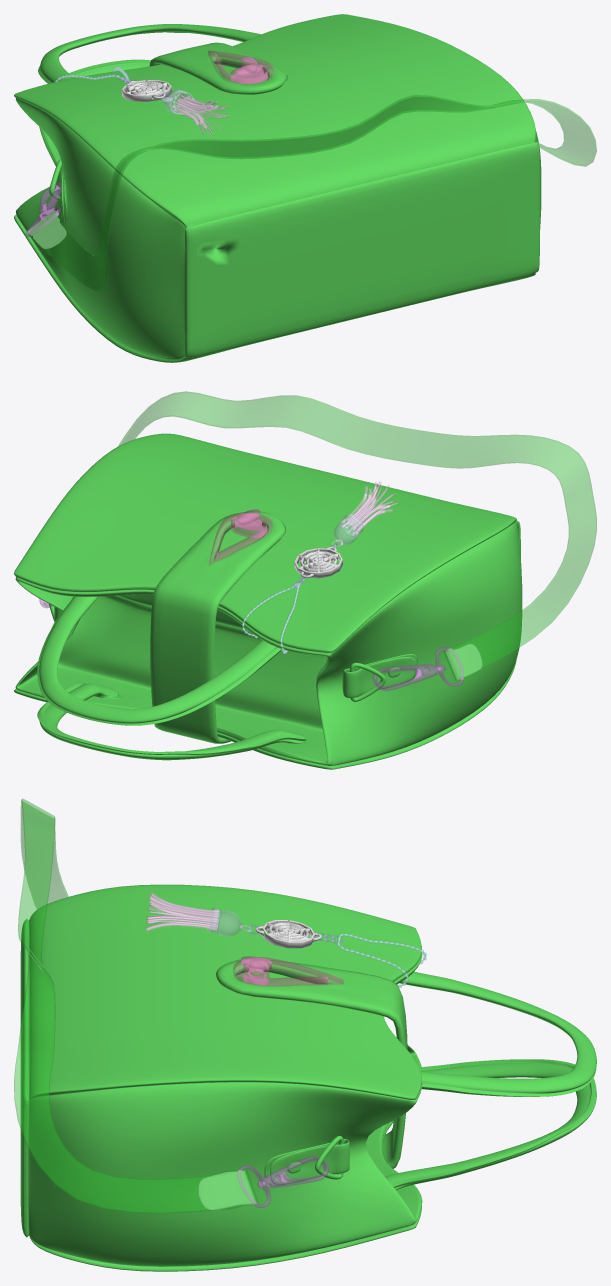
The model's file is handbag2.glb.
The picture shows the model from 3 angles, top to bottom: view 1: azimuth 30°, elevation 25°; view 2: azimuth 150°, elevation 25°; view 3: azimuth 270°, elevation 25°; orthographic projection. The views are drawn at different scales.
Parts seen in each view (by area): view 1: Plane006, Line003, Object002, Circle012, Line012, Shape005, Circle010; view 2: Plane006, Line003, Object002, Circle012, Line012, Shape005, Circle010, Line004, Shape004; view 3: Plane006, Line003, Object002, Circle012, Line012, Circle009, Shape005, Line004, Shape004.
Boxes of the visible parts, x1=… form: Plane006: x1=14, y1=14, x2=541, y2=362; Line003: x1=28, y1=95, x2=596, y2=291; Object002: x1=149, y1=42, x2=287, y2=94; Circle012: x1=208, y1=51, x2=273, y2=84; Line012: x1=172, y1=94, x2=230, y2=136; Shape005: x1=121, y1=80, x2=171, y2=101; Circle010: x1=25, y1=182, x2=61, y2=236; Plane006: x1=14, y1=433, x2=522, y2=769; Line003: x1=118, y1=391, x2=596, y2=680; Object002: x1=150, y1=511, x2=285, y2=743; Circle012: x1=209, y1=509, x2=272, y2=564; Line012: x1=341, y1=481, x2=397, y2=535; Shape005: x1=294, y1=546, x2=342, y2=578; Circle010: x1=373, y1=647, x2=463, y2=690; Line004: x1=332, y1=514, x2=363, y2=547; Shape004: x1=241, y1=583, x2=300, y2=653; Plane006: x1=20, y1=884, x2=596, y2=1271; Line003: x1=14, y1=798, x2=258, y2=1213; Object002: x1=216, y1=959, x2=407, y2=1168; Circle012: x1=233, y1=956, x2=343, y2=986; Line012: x1=146, y1=892, x2=218, y2=931; Circle009: x1=237, y1=1156, x2=328, y2=1207; Shape005: x1=255, y1=920, x2=321, y2=948; Line004: x1=207, y1=907, x2=252, y2=936; Shape004: x1=337, y1=933, x2=426, y2=987.
Bounding box in the file's own units: 1.16 × 0.5433 × 1.09.
